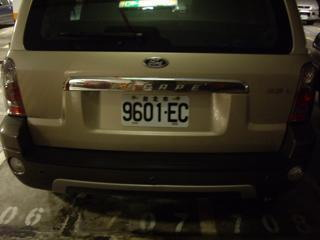plate: (119, 93, 190, 128)
